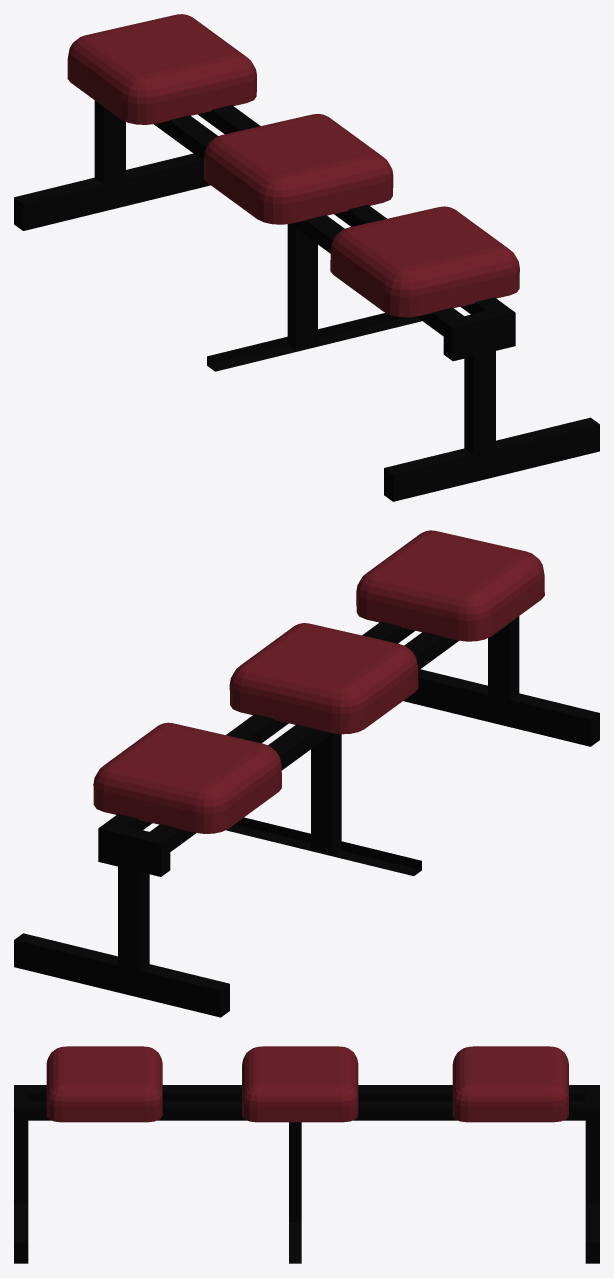
Rendered from pufe-mdl.glb.
3 renders of one model, top to bottom at view 1: azimuth 30°, elevation 25°; view 2: azimuth 150°, elevation 25°; view 3: azimuth 270°, elevation 25°, orthographic. The views are drawn at different scales.
Parts seen in each view (by area): view 1: Cube, Cube.001, Cube.003, Cube.002; view 2: Cube, Cube.001, Cube.003, Cube.002; view 3: Cube, Cube.001, Cube.002, Cube.003.
Part boxes in pixels (x1,y1,x2,y2): Cube: (14, 100, 599, 501); Cube.001: (67, 14, 256, 124); Cube.003: (330, 206, 519, 317); Cube.002: (203, 114, 393, 224); Cube: (14, 616, 599, 1017); Cube.001: (93, 722, 281, 833); Cube.003: (356, 530, 544, 641); Cube.002: (229, 623, 418, 734); Cube: (14, 1085, 599, 1263); Cube.001: (452, 1046, 568, 1122); Cube.002: (242, 1046, 358, 1122); Cube.003: (46, 1046, 162, 1122).
Size of the model in its own units: 0.7162 by 0.6605 by 2.27.
